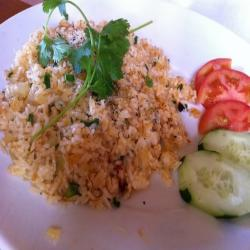rice: (4, 20, 191, 215)
